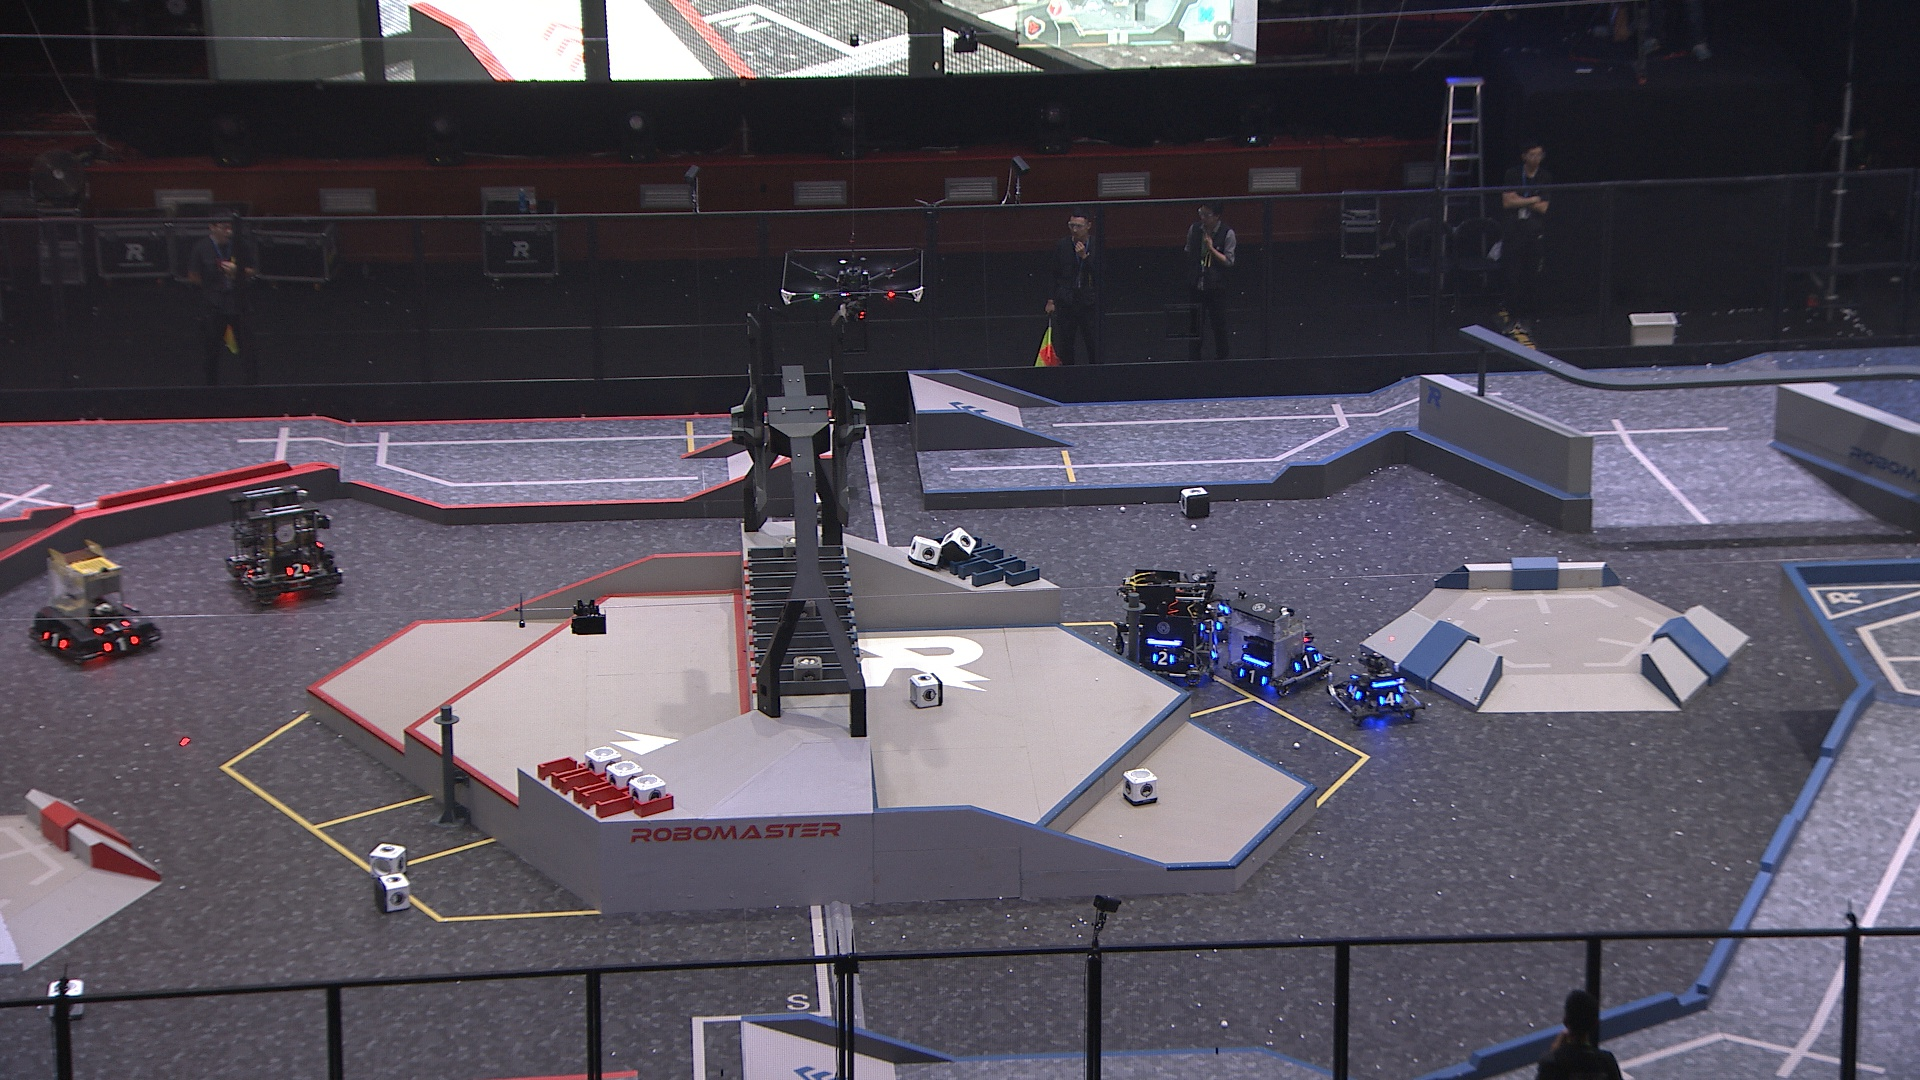armor: (40, 626, 67, 651), (105, 633, 136, 654), (94, 618, 131, 636), (1292, 651, 1319, 673), (1240, 669, 1266, 688), (1150, 651, 1178, 669), (285, 562, 310, 580), (1344, 680, 1364, 703), (1378, 692, 1404, 708), (237, 564, 253, 583), (1207, 641, 1218, 659)
car: (30, 547, 166, 670), (222, 481, 348, 605), (1112, 566, 1230, 688), (1224, 591, 1333, 698), (1325, 650, 1425, 727)
